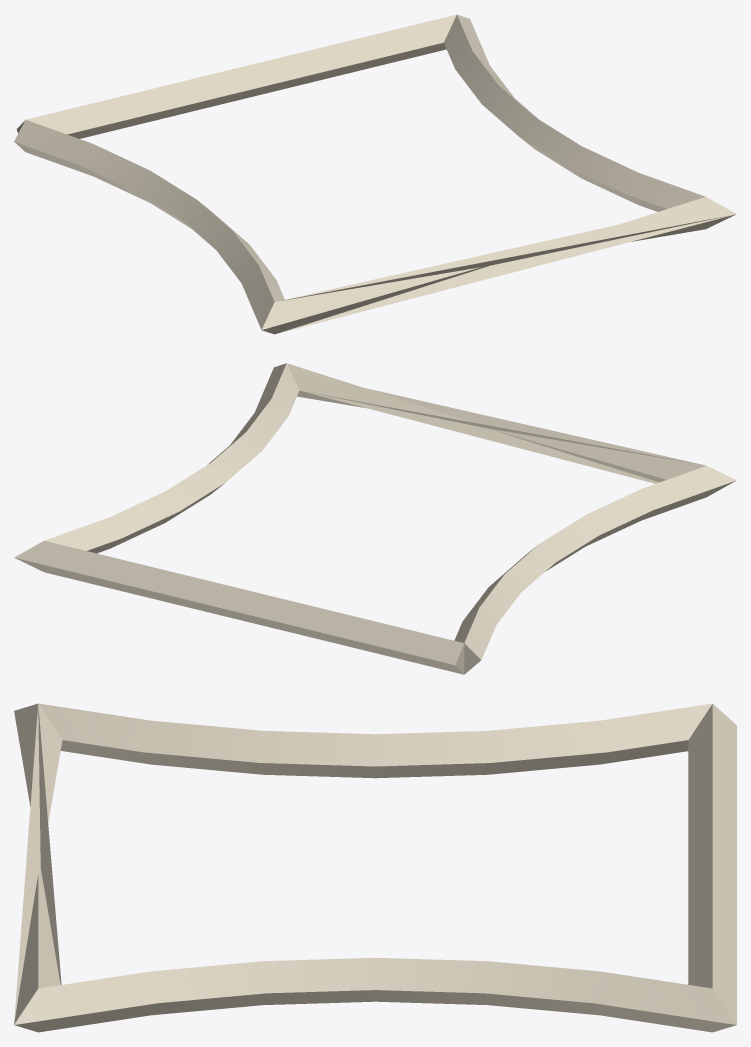
3 renders of one model, top to bottom at view 1: azimuth 30°, elevation 25°; view 2: azimuth 150°, elevation 25°; view 3: azimuth 270°, elevation 25°, orthographic. The views are drawn at different scales.
Parts seen in each view (by area): view 1: lan_can; view 2: lan_can; view 3: lan_can.
Boxes of the visible parts, <box> form: lan_can: <box>14,14,736,334</box>; lan_can: <box>14,363,736,674</box>; lan_can: <box>14,703,736,1032</box>.
Size of the model in its own units: 15.32 by 1 by 14.9.
